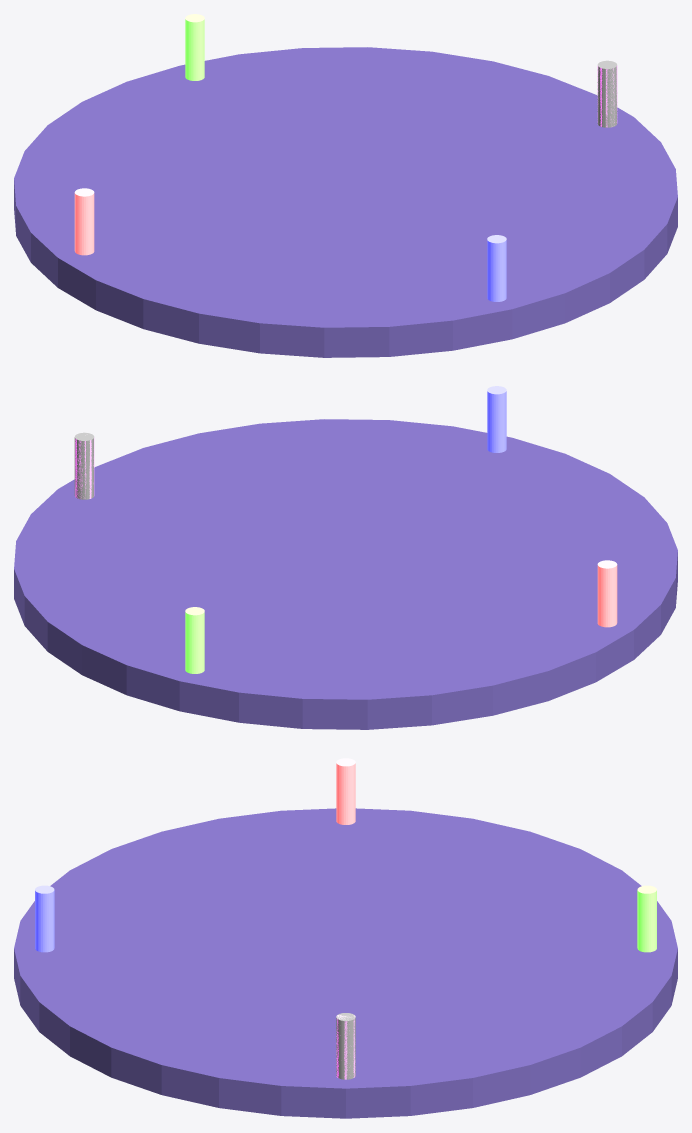
3 renders of one model, top to bottom at view 1: azimuth 30°, elevation 25°; view 2: azimuth 150°, elevation 25°; view 3: azimuth 270°, elevation 25°, orthographic.
Visible parts, largest first — view 1: Cylinder, Cylinder.003, Cylinder.005, Cylinder.004, Cylinder.001; view 2: Cylinder, Cylinder.003, Cylinder.005, Cylinder.004, Cylinder.001, Cylinder.002; view 3: Cylinder, Cylinder.005, Cylinder.004, Cylinder.003, Cylinder.001.
Boxes of the visible parts, x1,y1,x2,y2 form: Cylinder: (14, 47, 677, 357); Cylinder.003: (74, 188, 94, 255); Cylinder.005: (185, 14, 204, 80); Cylinder.004: (487, 235, 506, 301); Cylinder.001: (597, 60, 617, 127); Cylinder: (14, 419, 677, 729); Cylinder.003: (597, 560, 617, 627); Cylinder.005: (185, 607, 204, 673); Cylinder.004: (487, 386, 506, 452); Cylinder.001: (74, 432, 94, 499); Cylinder.002: (75, 434, 94, 498); Cylinder: (14, 808, 677, 1118); Cylinder.005: (637, 885, 656, 952); Cylinder.004: (35, 885, 54, 952); Cylinder.003: (336, 758, 355, 824); Cylinder.001: (336, 1013, 355, 1079).
Bounding box in the file's own units: 4 × 0.59 × 4.
